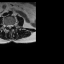CCS_normal: (9, 23, 10, 30)
LFS_normal: (12, 22, 14, 27)
LLS_normal: (10, 23, 12, 28)
RFS_normal: (6, 23, 7, 28)
RLS_normal: (7, 23, 9, 29)
